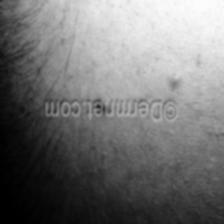Unclassified: (168, 70, 184, 86)
